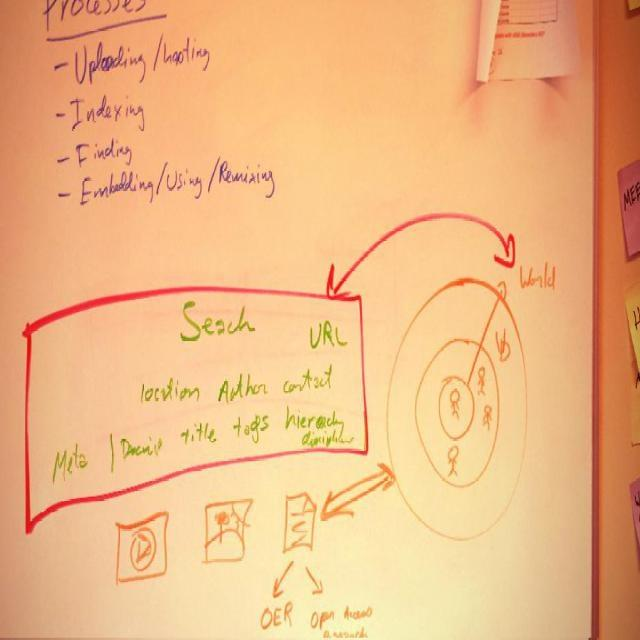Whiteboard: (0, 0, 603, 639)
